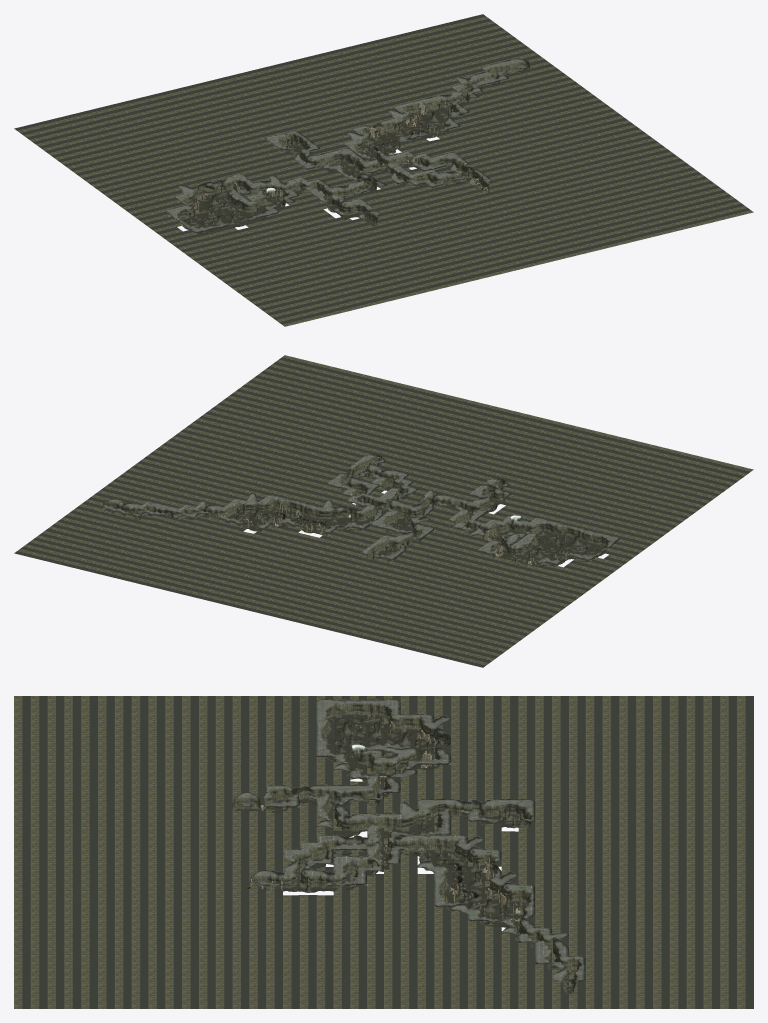
The model's file is map_D01_04.glb.
The picture shows the model from 3 angles, top to bottom: view 1: azimuth 30°, elevation 25°; view 2: azimuth 150°, elevation 25°; view 3: azimuth 270°, elevation 25°; orthographic projection. The views are drawn at different scales.
Visible parts, largest first — view 1: default_ground; view 2: default_ground; view 3: default_ground, FM_D01_wall02_ABA, FM_D01_grd03_AAA.
Boxes of the visible parts, x1,y1,x2,y2 form: default_ground: [14, 14, 753, 326]; default_ground: [14, 355, 753, 667]; default_ground: [14, 696, 753, 1008]; FM_D01_wall02_ABA: [333, 784, 367, 802]; FM_D01_grd03_AAA: [333, 712, 367, 739].
Size of the model in its own units: 1056 by 47.24 by 1056.
358 materials, 358 textured.
